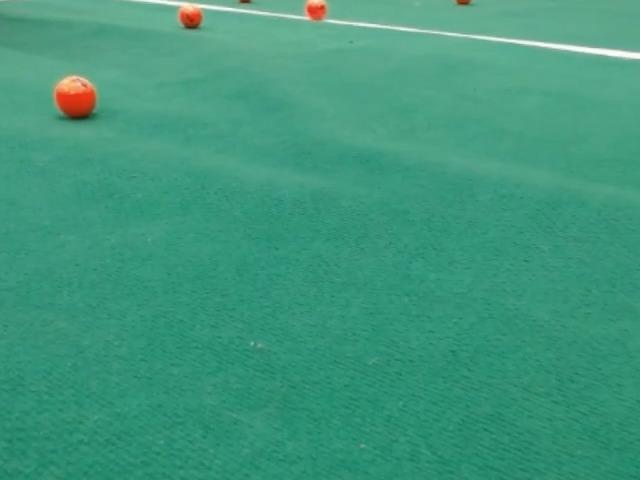Ball: (53, 75, 96, 119), (178, 4, 202, 28), (304, 0, 327, 21)
